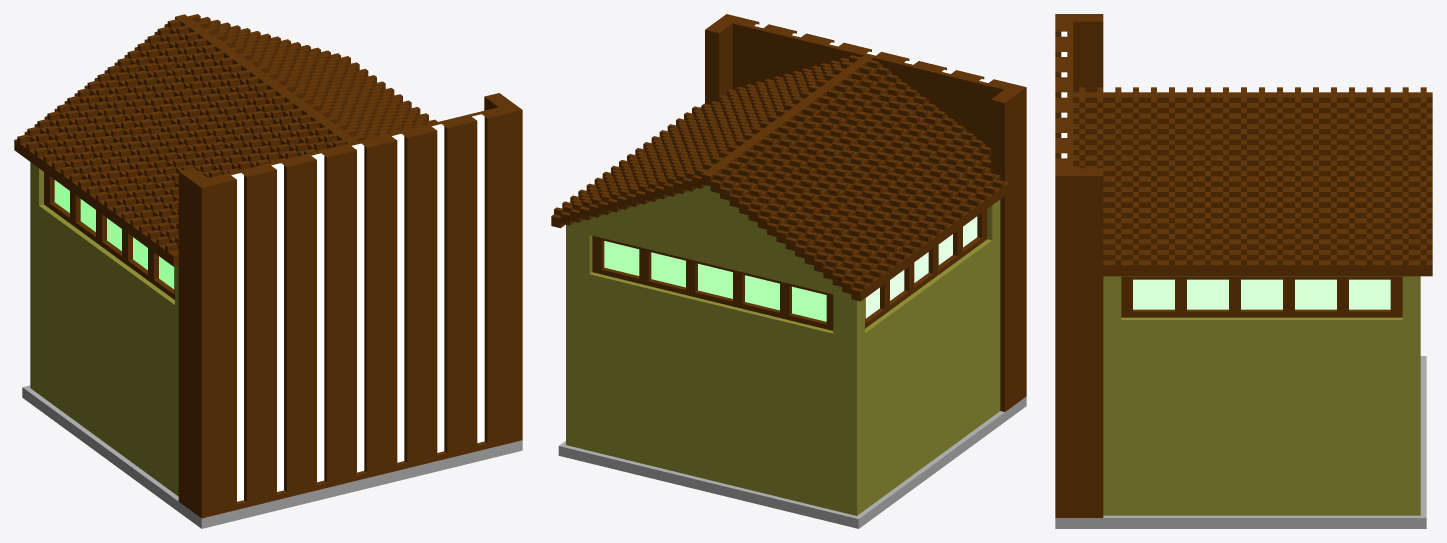
Rendered from typeTwo.glb.
3 views of the same model, side by side, from view 1: azimuth 30°, elevation 25°; view 2: azimuth 150°, elevation 25°; view 3: azimuth 270°, elevation 25° (orthographic). The views are drawn at different scales.
Visible parts, largest first — view 1: ObjObject; view 2: ObjObject; view 3: ObjObject.
Boxes of the visible parts, bbox=[...] form: ObjObject: bbox=[14, 14, 522, 528]; ObjObject: bbox=[551, 14, 1026, 528]; ObjObject: bbox=[1055, 14, 1432, 528].
Size of the model in its own units: 6.6 by 6.5 by 6.3.
Materials: 3 (1 with a texture image).
